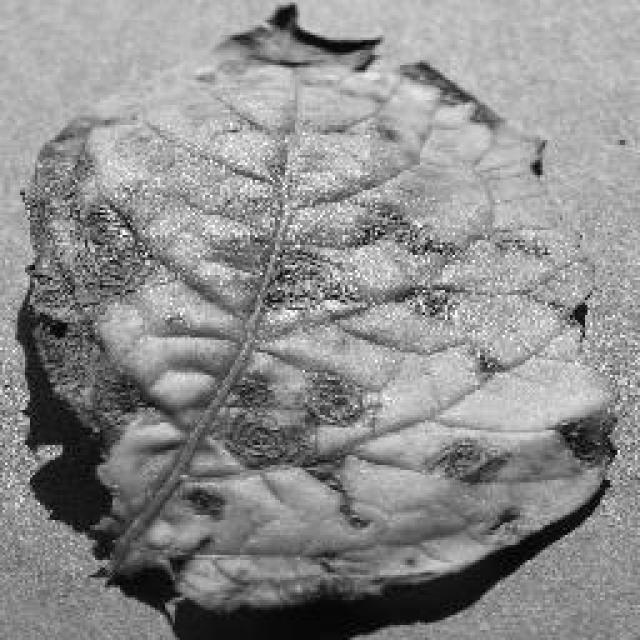Potato: (15, 0, 620, 618)
